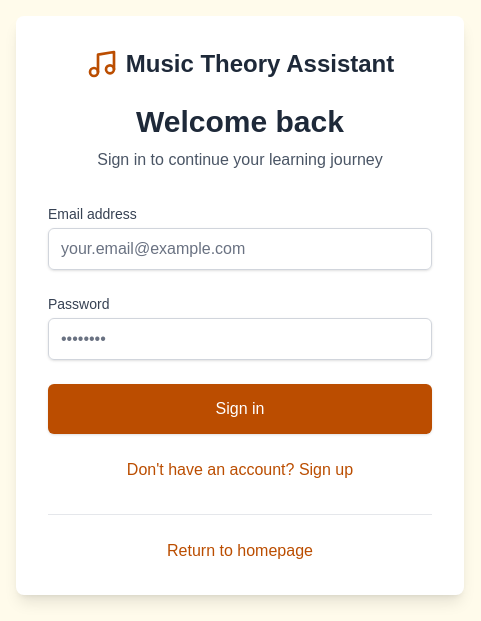
Scenario: Login page › toggles into the sign-up form and back
This screenshot has width=481, height=621.
Click the button "Don't have an account? Sign up" at {"x": 240, "y": 470}, box [127,458,353,482]
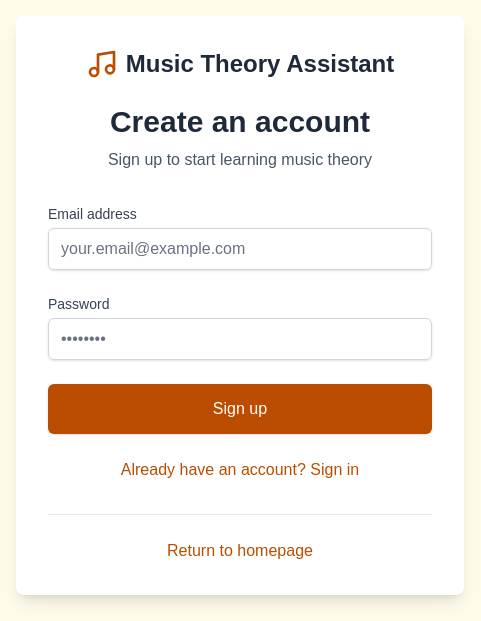
Result: the heading "Create an account" is shown at [110,104,370,138]
Result: the button "Sign up" is shown at [48,384,432,434]
Click the button "Already have an account? Sign in" at {"x": 240, "y": 470}, box [121,458,359,482]
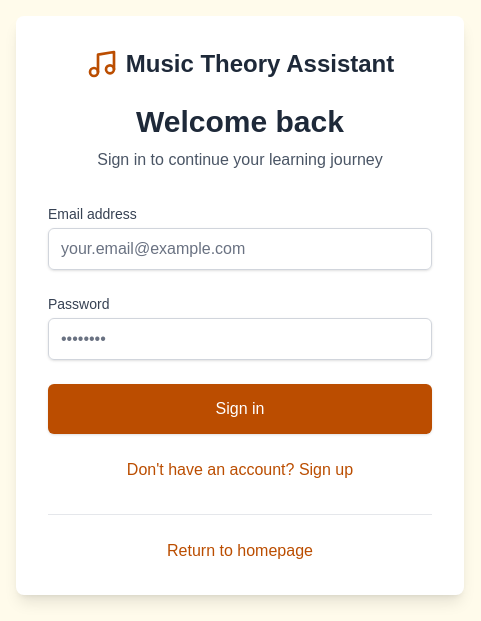
Result: the heading "Welcome back" is shown at [136,104,344,138]
